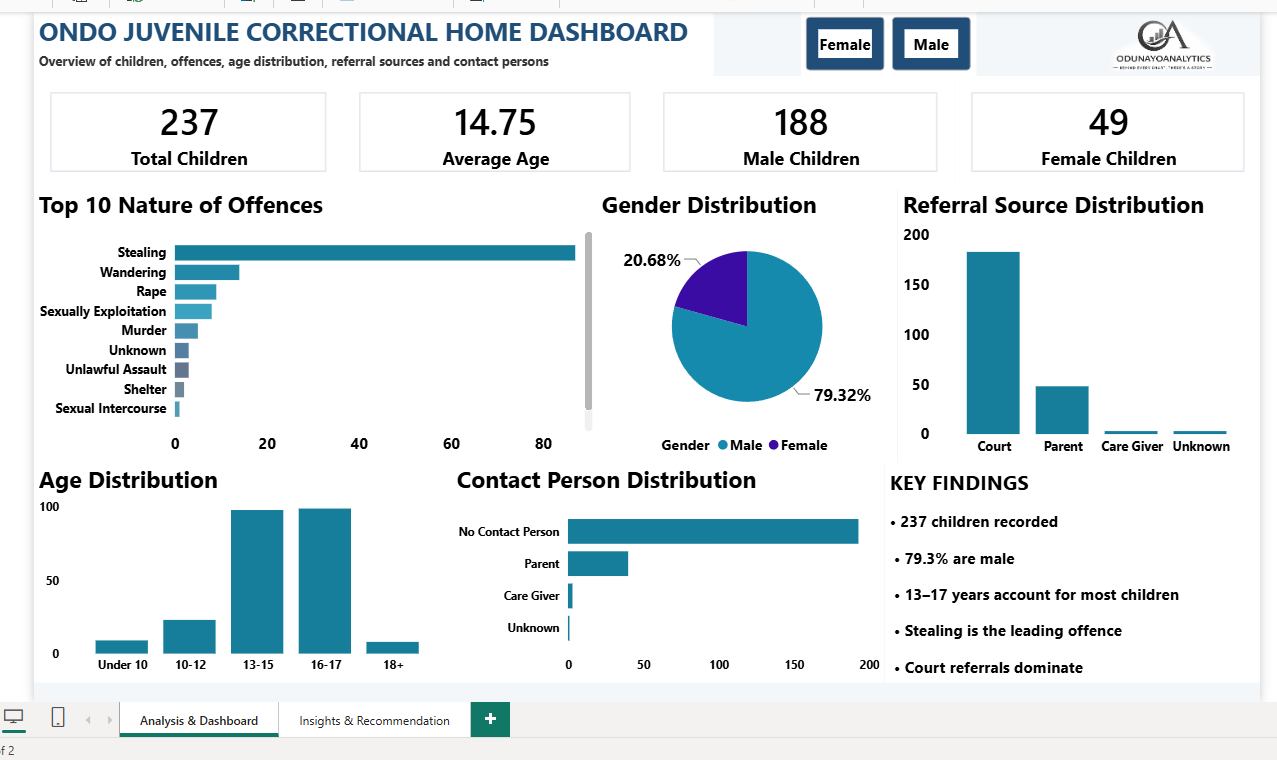

Layout of this report page (visuals, bound fields, positions):
{"tool":"powerbi","page":{"name":"Analysis & Dashboard","canvas":[1280,720],"ordinal":0},"visuals":[{"type":"cardVisual","fields":{"Data":["Ondo.Total Children"]},"box":[0,66.4,322.9,117],"z":0},{"type":"cardVisual","fields":{"Data":["Ondo.Average Age"]},"box":[322.9,66.4,317.2,117],"z":1000},{"type":"cardVisual","fields":{"Data":["Ondo.Male Children"]},"box":[640.1,66.4,320.6,117],"z":2000},{"type":"cardVisual","fields":{"Data":["Ondo.Female Children"]},"box":[960.8,66.4,319.5,117],"z":3000},{"type":"pieChart","title":"Gender Distribution","fields":{"Category":["Ondo.GENDER"],"Y":["Ondo.Total Children"]},"box":[587.8,183.3,313.3,287.8],"z":4000},{"type":"clusteredBarChart","title":"Top 10 Nature of Offences","fields":{"Category":["Ondo.NATURE OF OFFENCE/WHY CHILD WAS  IN THE INSTITUTION"],"Y":["Ondo.Total Children"]},"box":[0,183.3,587.8,287.8],"z":5000},{"type":"clusteredColumnChart","title":"Referral Source Distribution","fields":{"Category":["Ondo.MODE OF REFERRAL"],"Y":["Ondo.Total Children"]},"box":[901.1,183.3,378.9,287.8],"z":6000},{"type":"clusteredColumnChart","title":"Age Distribution","fields":{"Category":["Ondo.AGE GROUP"],"Y":["CountNonNull(Ondo.S/N)"]},"box":[0,471.1,436.7,228.9],"z":7000},{"type":"clusteredBarChart","title":"Contact Person Distribution","fields":{"Category":["Ondo.CONTACT PERSON"],"Y":["CountNonNull(Ondo.S/N)"]},"box":[436.7,471.1,451.1,228.9],"z":8000},{"type":"advancedSlicerVisual","title":"Gender","fields":{"Values":["Ondo.GENDER"]},"box":[800,0,183.3,66.7],"z":9000},{"type":"textbox","title":"ONDO JUVENILE CORRECTIONAL HOME DASHBOARD","box":[0,1.1,708.9,65.6],"z":10000},{"type":"image","box":[1084.4,1.1,187.8,65.6],"z":11000},{"type":"shape","box":[887.8,471.1,392.2,221.1],"z":12000},{"type":"textbox","box":[887.8,471.1,392.2,228.9],"z":13000}]}

Visuals, with their boxes on the page's 1280x720 design canvas (x1, y1, x2, y2). These are canvas units, not pixel positions in the 1277x760 screenshot, which may show the page scaled, cropped or inside an application window:
cardVisual - Ondo.Total Children: (left=0, top=66, right=323, bottom=183)
cardVisual - Ondo.Average Age: (left=323, top=66, right=640, bottom=183)
cardVisual - Ondo.Male Children: (left=640, top=66, right=961, bottom=183)
cardVisual - Ondo.Female Children: (left=961, top=66, right=1280, bottom=183)
"Gender Distribution" pieChart: (left=588, top=183, right=901, bottom=471)
"Top 10 Nature of Offences" clusteredBarChart: (left=0, top=183, right=588, bottom=471)
"Referral Source Distribution" clusteredColumnChart: (left=901, top=183, right=1280, bottom=471)
"Age Distribution" clusteredColumnChart: (left=0, top=471, right=437, bottom=700)
"Contact Person Distribution" clusteredBarChart: (left=437, top=471, right=888, bottom=700)
"Gender" advancedSlicerVisual: (left=800, top=0, right=983, bottom=67)
"ONDO JUVENILE CORRECTIONAL HOME DASHBOARD" textbox: (left=0, top=1, right=709, bottom=67)
image: (left=1084, top=1, right=1272, bottom=67)
shape: (left=888, top=471, right=1280, bottom=692)
textbox: (left=888, top=471, right=1280, bottom=700)
